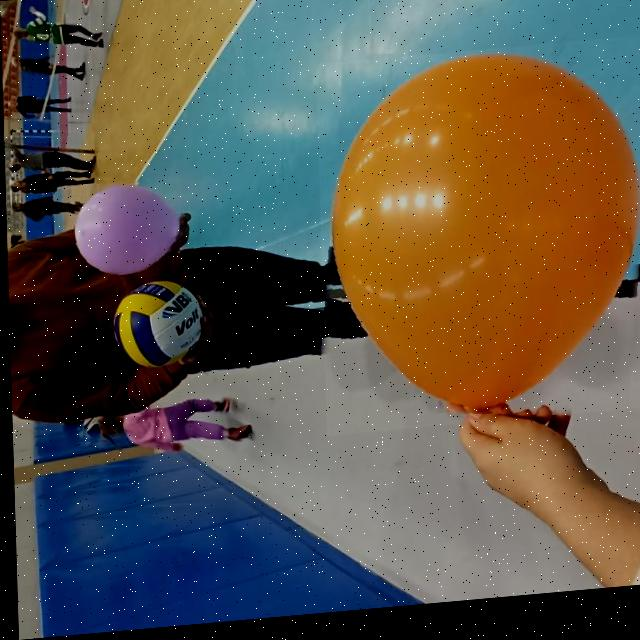balloon: (315, 46, 640, 441), (70, 179, 181, 283)
